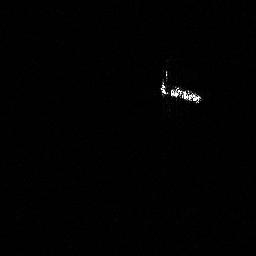ship: (157, 64, 205, 107)
